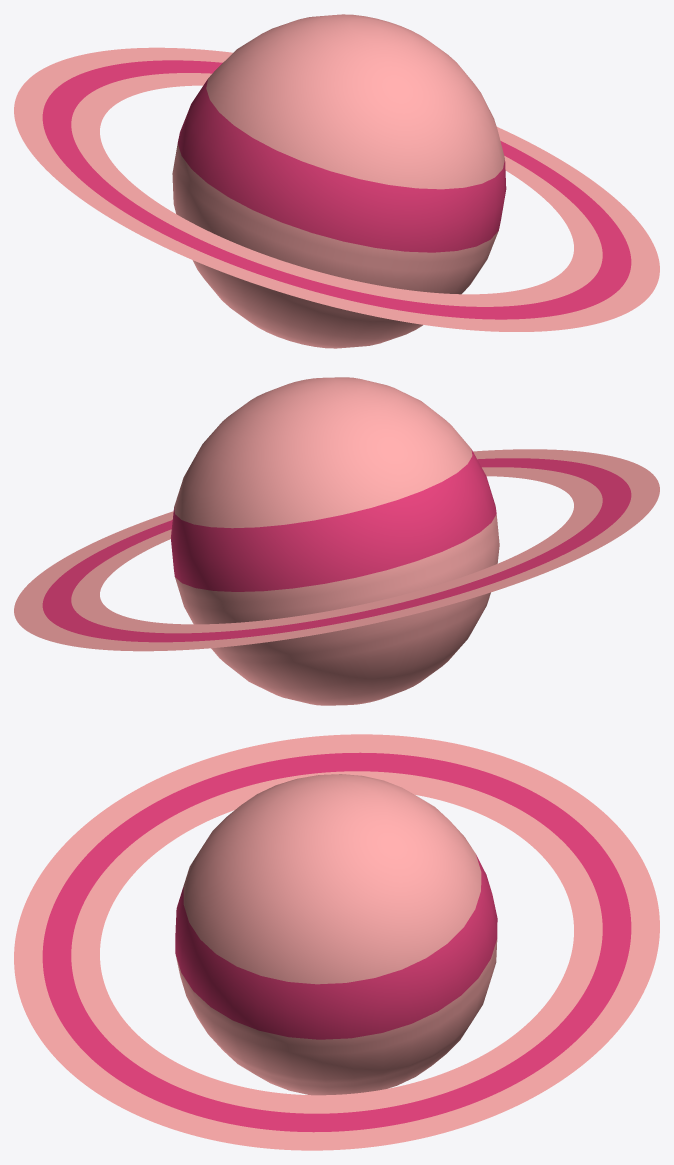
The model's file is saturn.fbx.
3 views of the same model, one above another, from view 1: azimuth 30°, elevation 25°; view 2: azimuth 150°, elevation 25°; view 3: azimuth 270°, elevation 25° (orthographic). The views are drawn at different scales.
Parts seen in each view (by area): view 1: Sphere; view 2: Sphere; view 3: Sphere.
Part boxes in pixels (x1=…): Sphere: x1=14, y1=14, x2=659, y2=348; Sphere: x1=14, y1=377, x2=659, y2=705; Sphere: x1=14, y1=734, x2=659, y2=1150.
Bounding box in the file's own units: 386 × 199 × 398.
